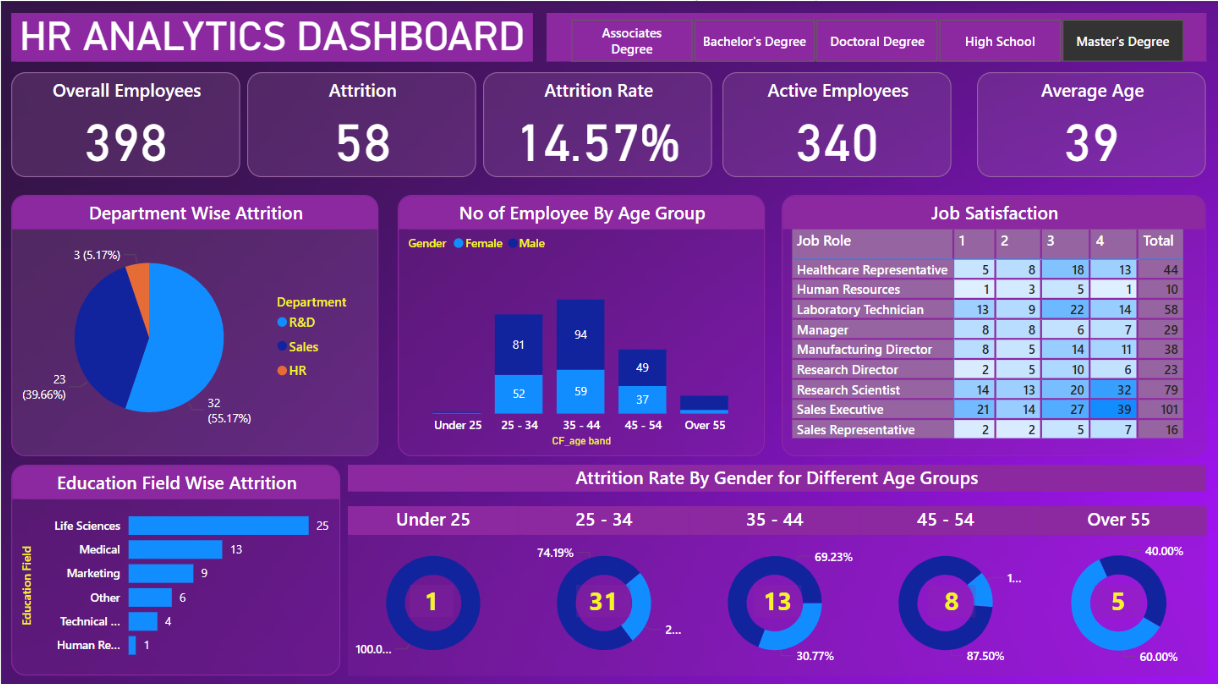

The page's visual inventory and layout, read from the dashboard file:
{"tool":"powerbi","page":{"name":"Page 1","canvas":[1280,720],"ordinal":0},"visuals":[{"type":"card","title":"Overall Employees","fields":{"Values":["Sum(HR data.Employee Count)"]},"box":[10.7,74.9,240.2,109.9],"z":0},{"type":"card","title":"Attrition","fields":{"Values":["Sum(HR data.Attrition Count)"]},"box":[257.8,74.9,240.2,109.9],"z":1000},{"type":"card","title":"Attrition Rate","fields":{"Values":["HR data.Attrition Rate"]},"box":[505.8,74.9,240.2,109.9],"z":2000},{"type":"card","title":"Active Employees","fields":{"Values":["HR data.Active Employees"]},"box":[756.7,74.9,240.2,109.9],"z":3000},{"type":"card","title":"Average Age","fields":{"Values":["Avg(HR data.Age)"]},"box":[1023.2,74.9,240.2,109.9],"z":4000},{"type":"pieChart","title":"Department Wise Attrition","fields":{"Category":["HR data.Department"],"Y":["Sum(HR data.Attrition Count)"]},"box":[10.7,203.3,385.2,274.3],"z":5000},{"type":"columnChart","title":"No of Employee By Age Group","fields":{"Category":["HR data.CF_age band"],"Y":["Sum(HR data.Employee Count)"],"Series":["HR data.Gender"]},"box":[416.3,203.3,385.2,274.3],"z":6000},{"type":"pivotTable","title":"Job Satisfaction","fields":{"Rows":["HR data.Job Role"],"Columns":["HR data.Job Satisfaction"],"Values":["Sum(HR data.Employee Count)"]},"box":[818,203.3,445.5,274.3],"z":7000},{"type":"barChart","title":"Education Field Wise Attrition","fields":{"Category":["HR data.Education Field"],"Y":["Sum(HR data.Attrition Count)"]},"box":[10.7,486.3,345.3,220.8],"z":8000},{"type":"donutChart","title":"Under 25","fields":{"Category":["HR data.Gender"],"Y":["Sum(HR data.Attrition Count)"],"Series":["HR data.CF_age band"]},"box":[363.8,529.1,179,178],"z":9000},{"type":"textbox","title":"Attrition Rate By Gender for Different Age Groups","box":[363.8,486.3,899.7,28.2],"z":10000},{"type":"donutChart","title":"25 - 34","fields":{"Category":["HR data.Gender"],"Y":["Sum(HR data.Attrition Count)"],"Series":["HR data.CF_age band"]},"box":[542.7,529.1,179,178],"z":11000},{"type":"donutChart","title":"35 - 44","fields":{"Category":["HR data.Gender"],"Y":["Sum(HR data.Attrition Count)"],"Series":["HR data.CF_age band"]},"box":[721.7,529.1,179,178],"z":12000},{"type":"donutChart","title":"45 - 54","fields":{"Category":["HR data.Gender"],"Y":["Sum(HR data.Attrition Count)"],"Series":["HR data.CF_age band"]},"box":[900.7,529.1,179,178],"z":13000},{"type":"donutChart","title":"Over 55","fields":{"Category":["HR data.Gender"],"Y":["Sum(HR data.Attrition Count)"],"Series":["HR data.CF_age band"]},"box":[1079.6,529.1,183.8,178],"z":14000},{"type":"card","fields":{"Values":["Sum(HR data.Attrition Count)"]},"box":[428,611.8,45.7,34],"z":15000},{"type":"card","fields":{"Values":["Sum(HR data.Attrition Count)"]},"box":[603,611.8,57.4,34],"z":16000},{"type":"card","fields":{"Values":["Sum(HR data.Attrition Count)"]},"box":[788.8,611.8,49.6,34],"z":17000},{"type":"card","fields":{"Values":["Sum(HR data.Attrition Count)"]},"box":[971.7,611.8,49.6,34],"z":18000},{"type":"card","fields":{"Values":["Sum(HR data.Attrition Count)"]},"box":[1146.7,611.8,49.6,34],"z":19000},{"type":"textbox","title":"HR ANALYTICS DASHBOARD","box":[10.7,12.6,546.6,50.6],"z":20000},{"type":"slicer","fields":{"Values":["HR data.Education"]},"box":[571.9,12.6,691.6,50.6],"z":21000}]}

Visuals, with their boxes in screenshot pixels (x1, y1, x2, y2), scaled from the page's 1280x720 canvas onto the 1218x684 screenshot:
"Overall Employees" card: {"left": 10, "top": 71, "right": 239, "bottom": 176}
"Attrition" card: {"left": 245, "top": 71, "right": 474, "bottom": 176}
"Attrition Rate" card: {"left": 481, "top": 71, "right": 710, "bottom": 176}
"Active Employees" card: {"left": 720, "top": 71, "right": 949, "bottom": 176}
"Average Age" card: {"left": 974, "top": 71, "right": 1202, "bottom": 176}
"Department Wise Attrition" pieChart: {"left": 10, "top": 193, "right": 377, "bottom": 454}
"No of Employee By Age Group" columnChart: {"left": 396, "top": 193, "right": 763, "bottom": 454}
"Job Satisfaction" pivotTable: {"left": 778, "top": 193, "right": 1202, "bottom": 454}
"Education Field Wise Attrition" barChart: {"left": 10, "top": 462, "right": 339, "bottom": 672}
"Under 25" donutChart: {"left": 346, "top": 503, "right": 517, "bottom": 672}
"Attrition Rate By Gender for Different Age Groups" textbox: {"left": 346, "top": 462, "right": 1202, "bottom": 489}
"25 - 34" donutChart: {"left": 516, "top": 503, "right": 687, "bottom": 672}
"35 - 44" donutChart: {"left": 687, "top": 503, "right": 857, "bottom": 672}
"45 - 54" donutChart: {"left": 857, "top": 503, "right": 1027, "bottom": 672}
"Over 55" donutChart: {"left": 1027, "top": 503, "right": 1202, "bottom": 672}
card - Sum(HR data.Attrition Count): {"left": 407, "top": 581, "right": 451, "bottom": 614}
card - Sum(HR data.Attrition Count): {"left": 574, "top": 581, "right": 628, "bottom": 614}
card - Sum(HR data.Attrition Count): {"left": 751, "top": 581, "right": 798, "bottom": 614}
card - Sum(HR data.Attrition Count): {"left": 925, "top": 581, "right": 972, "bottom": 614}
card - Sum(HR data.Attrition Count): {"left": 1091, "top": 581, "right": 1138, "bottom": 614}
"HR ANALYTICS DASHBOARD" textbox: {"left": 10, "top": 12, "right": 530, "bottom": 60}
slicer - HR data.Education: {"left": 544, "top": 12, "right": 1202, "bottom": 60}
